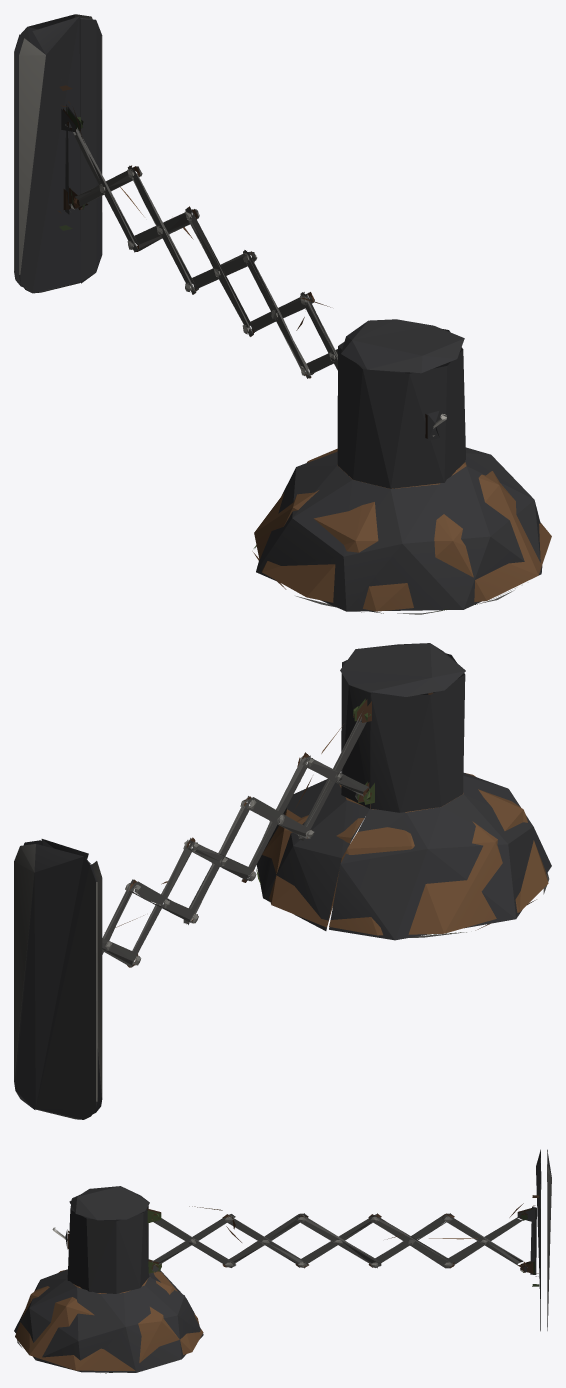
File: wall_lamp.glb
3 views of the same model, one above another, from view 1: azimuth 30°, elevation 25°; view 2: azimuth 150°, elevation 25°; view 3: azimuth 270°, elevation 25° (orthographic). The views are drawn at different scales.
Visible parts, largest first — view 1: WallLamp; view 2: WallLamp; view 3: WallLamp.
Part boxes in pixels (<box>): WallLamp: <box>14,14,551,614</box>; WallLamp: <box>14,643,551,1119</box>; WallLamp: <box>14,1149,551,1373</box>.
Bounding box in the file's own units: 0.3208 × 0.3396 × 0.9209.
